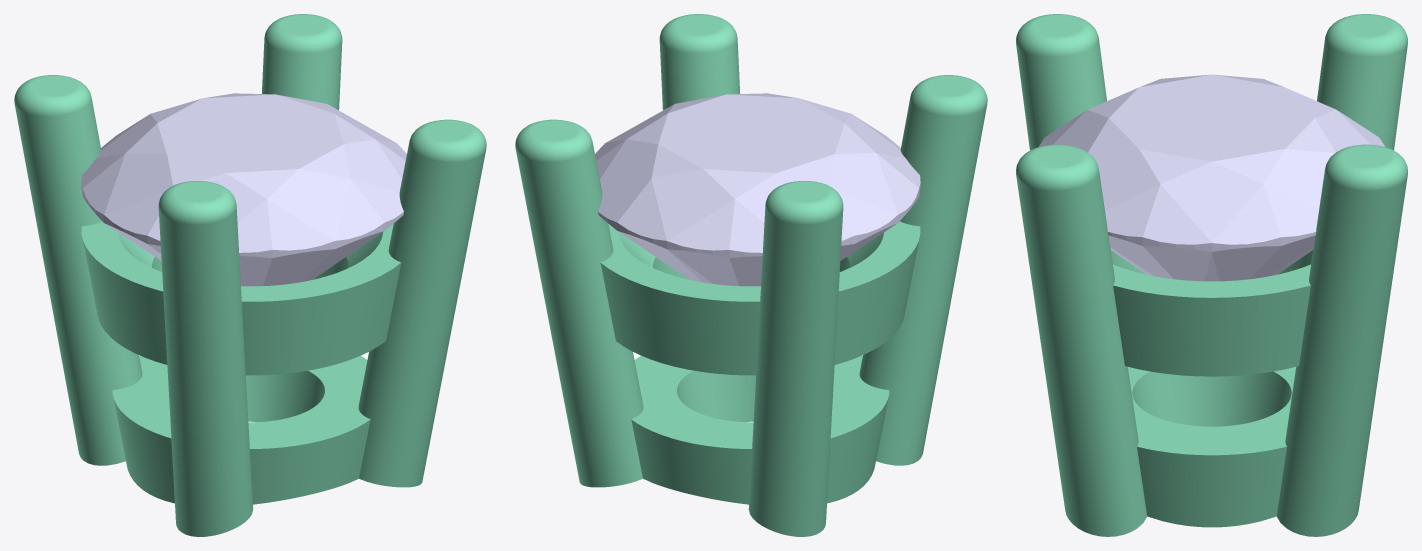
File: headunit_round.glb
3 views of the same model, side by side, from view 1: azimuth 30°, elevation 25°; view 2: azimuth 150°, elevation 25°; view 3: azimuth 270°, elevation 25° (orthographic). The views are drawn at different scales.
Visible parts, largest first — view 1: METAL_HEAD, STONE_CENTRE; view 2: METAL_HEAD, STONE_CENTRE; view 3: METAL_HEAD, STONE_CENTRE.
Boxes of the visible parts, x1=… form: METAL_HEAD: x1=14, y1=14, x2=486, y2=536; STONE_CENTRE: x1=81, y1=93, x2=406, y2=286; METAL_HEAD: x1=515, y1=14, x2=987, y2=536; STONE_CENTRE: x1=595, y1=93, x2=920, y2=286; METAL_HEAD: x1=1016, y1=14, x2=1407, y2=536; STONE_CENTRE: x1=1039, y1=74, x2=1384, y2=281.
Bounding box in the file's own units: 0.00787 × 0.00851 × 0.00787.
